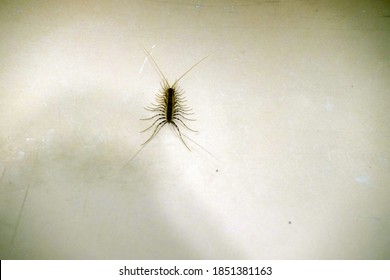centipede: (137, 45, 201, 152)
